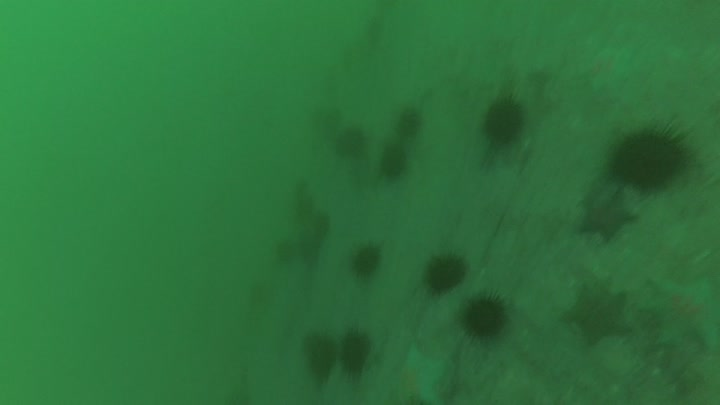echinus: (611, 117, 705, 197), (463, 291, 513, 339), (482, 94, 525, 146), (423, 251, 470, 295), (335, 331, 374, 382), (303, 336, 345, 380), (350, 240, 384, 275), (378, 145, 410, 176), (333, 126, 365, 156), (393, 109, 425, 137), (274, 236, 303, 264), (299, 234, 324, 266), (312, 214, 332, 239)
starfish: (642, 277, 720, 353), (559, 283, 633, 350), (382, 343, 447, 405), (577, 189, 639, 241)
